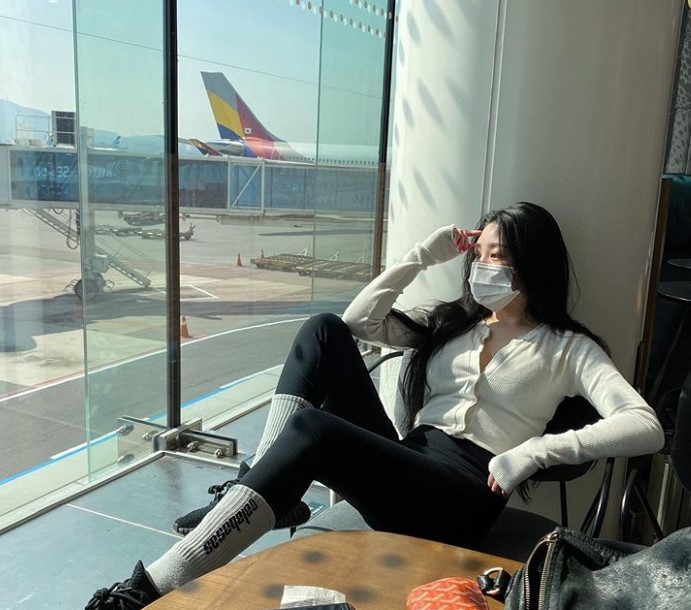face_with_mask: (467, 205, 551, 314)
